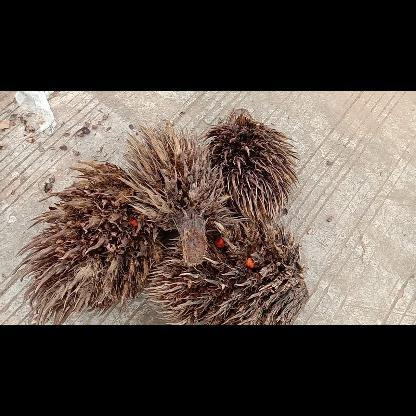Janjang kosong: (14, 162, 162, 324), (148, 222, 309, 324), (121, 120, 230, 264), (202, 110, 298, 224)
